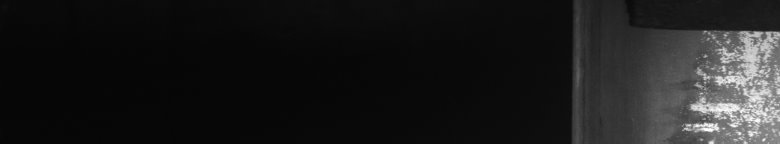kb: (682, 24, 776, 136)
